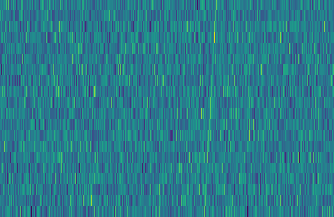signal: (200, 0, 221, 217)
